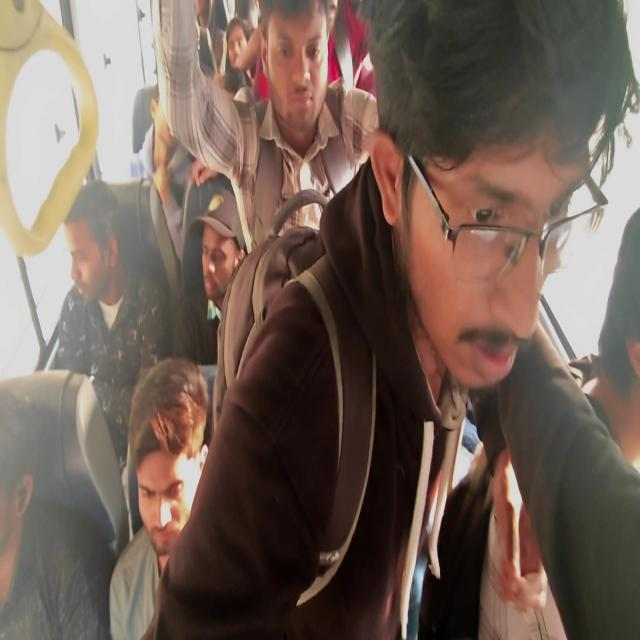person: (378, 16, 607, 382), (130, 381, 203, 541), (267, 10, 339, 135), (66, 195, 131, 305), (616, 209, 640, 472), (0, 398, 41, 550), (196, 196, 245, 301), (149, 91, 199, 157), (187, 24, 217, 73), (226, 23, 246, 73), (232, 91, 256, 120), (238, 2, 267, 24), (194, 4, 217, 23)
